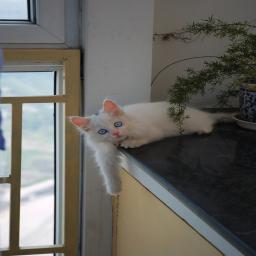catnose: (113, 132, 123, 137)
